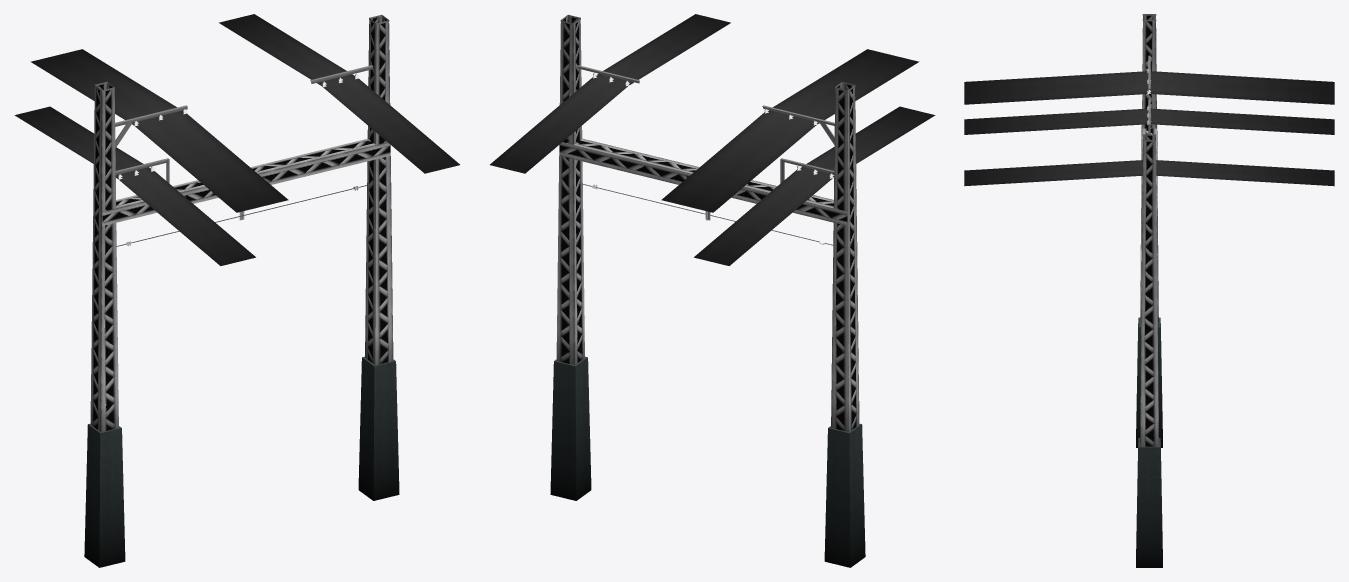
Rendered from KASENCHU_TEKKYOU.glb.
3 renders of one model, left to right at view 1: azimuth 30°, elevation 25°; view 2: azimuth 150°, elevation 25°; view 3: azimuth 270°, elevation 25°, orthographic. The views are drawn at different scales.
Parts seen in each view (by area): view 1: mdl; view 2: mdl; view 3: mdl.
Part boxes in pixels (box(x1,y1,x2,y2)): mdl: box(14, 14, 459, 567); mdl: box(490, 14, 935, 567); mdl: box(964, 14, 1334, 567).
Size of the model in its own units: 33.26 by 50.14 by 39.61.
Materials: 5 (5 with a texture image).
